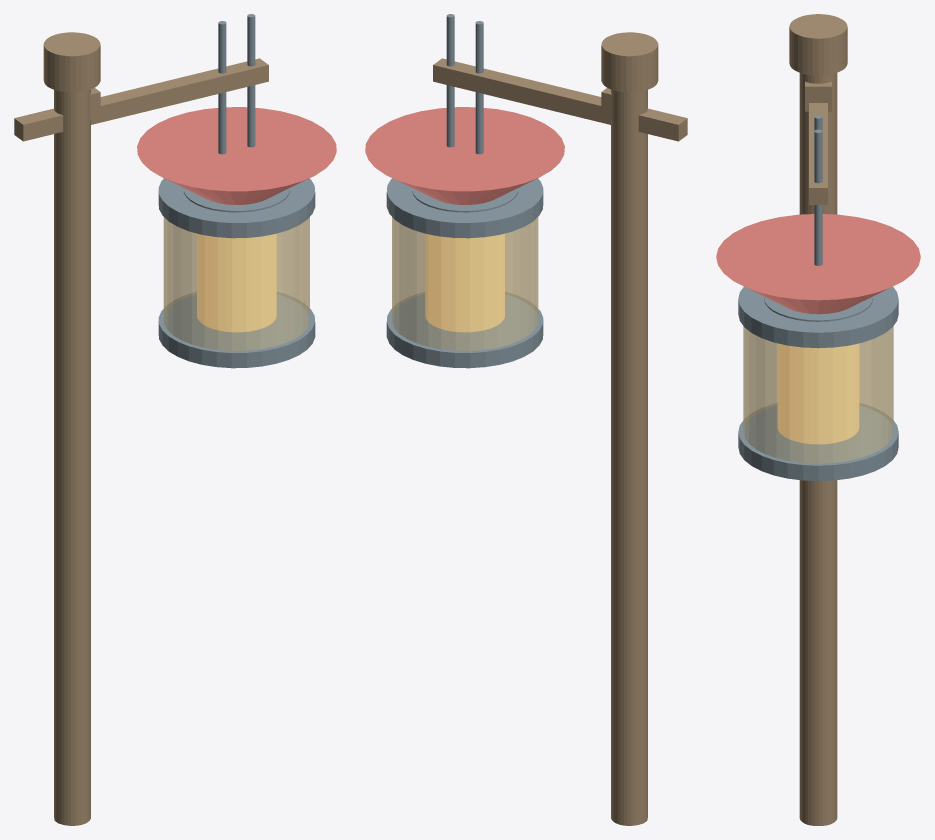
File: den_long.glb
3 renders of one model, left to right at view 1: azimuth 30°, elevation 25°; view 2: azimuth 150°, elevation 25°; view 3: azimuth 270°, elevation 25°, orthographic. The views are drawn at different scales.
Parts seen in each view (by area): view 1: den_long_body, den_long_glow; view 2: den_long_body, den_long_glow; view 3: den_long_body, den_long_glow.
Boxes of the visible parts, x1,y1,x2,y2 form: den_long_body: (14,14,336,825); den_long_glow: (197,233,276,332); den_long_body: (365,14,687,825); den_long_glow: (425,233,504,332); den_long_body: (716,14,920,825); den_long_glow: (777,343,859,444).
Size of the model in its own units: 1.05 by 2.56 by 0.6.
